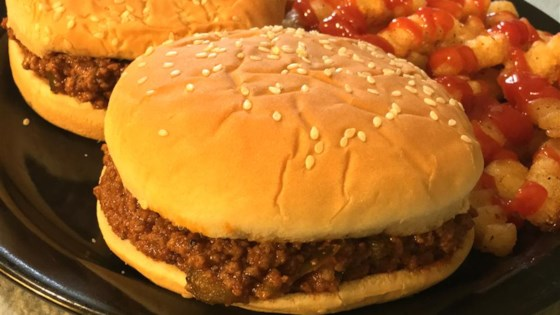hamburger_buns: (92, 33, 476, 299)
